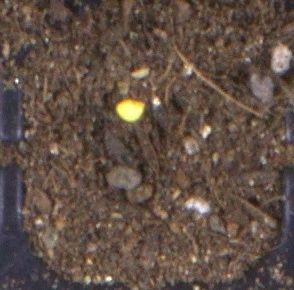chilli seed: (114, 98, 146, 122)
